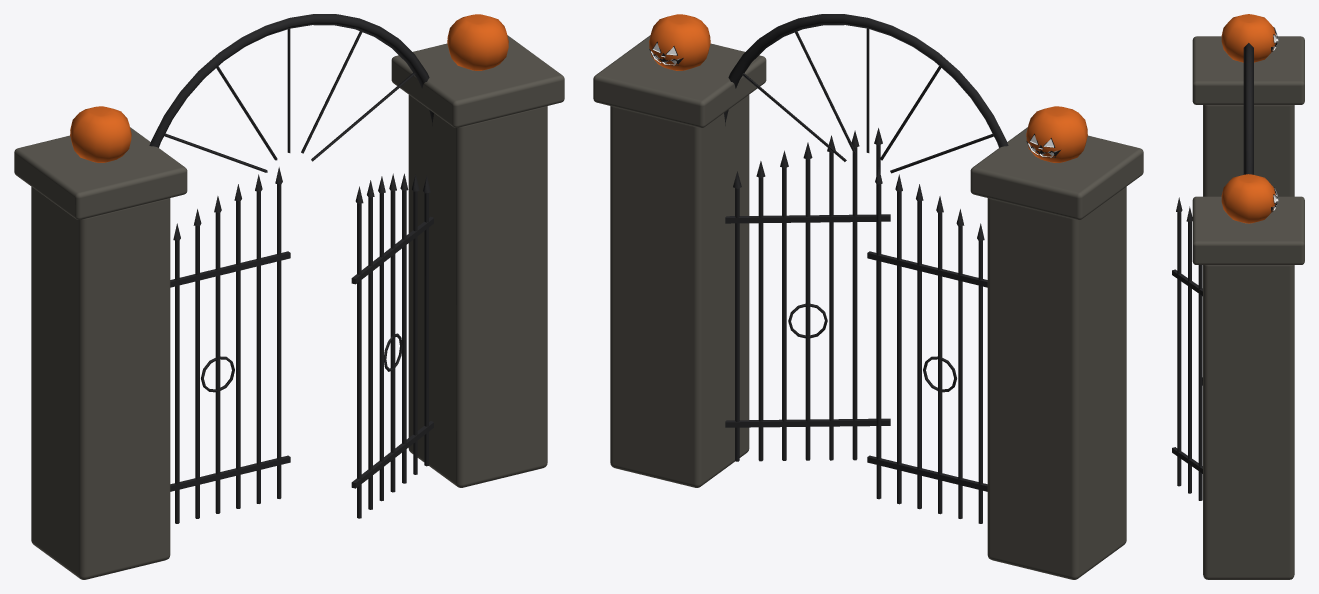
File: CRYPT_GATE.glb
3 renders of one model, left to right at view 1: azimuth 30°, elevation 25°; view 2: azimuth 150°, elevation 25°; view 3: azimuth 270°, elevation 25°, orthographic. The views are drawn at different scales.
Visible parts, largest first — view 1: concreteProp_0, tread_2, pumpkin_1; view 2: concreteProp_0, tread_2, pumpkin_1; view 3: concreteProp_0, tread_2, pumpkin_1.
Part boxes in pixels (<box>): concreteProp_0: <box>14,35,564,579</box>; tread_2: <box>149,14,433,523</box>; pumpkin_1: <box>70,14,508,162</box>; concreteProp_0: <box>593,35,1143,579</box>; tread_2: <box>649,14,1060,523</box>; pumpkin_1: <box>649,14,1087,162</box>; concreteProp_0: <box>1192,36,1304,579</box>; tread_2: <box>1172,27,1277,500</box>; pumpkin_1: <box>1221,14,1275,223</box>.
Size of the model in its own units: 3.76 by 3.59 by 1.02.
